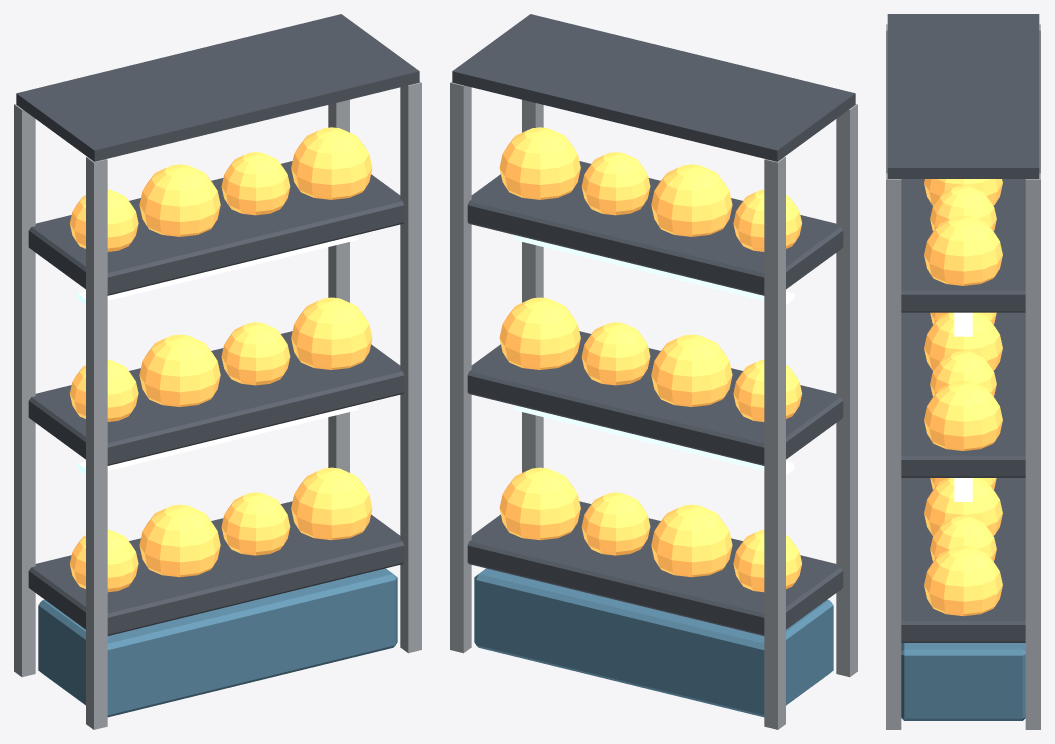
Rendered from spaceship-deck-kit-hydroponics-rack-0b4905a6__12587.glb.
The picture shows the model from 3 angles, left to right: view 1: azimuth 30°, elevation 25°; view 2: azimuth 150°, elevation 25°; view 3: azimuth 270°, elevation 25°; orthographic projection. The views are drawn at different scales.
Parts seen in each view (by area): view 1: hydroponics-rack; view 2: hydroponics-rack; view 3: hydroponics-rack.
Part boxes in pixels (x1,y1,x2,y2): hydroponics-rack: (14,14,421,729); hydroponics-rack: (450,14,857,729); hydroponics-rack: (886,14,1040,729).
Bounding box in the file's own units: 1.21 × 2.04 × 0.5101.
